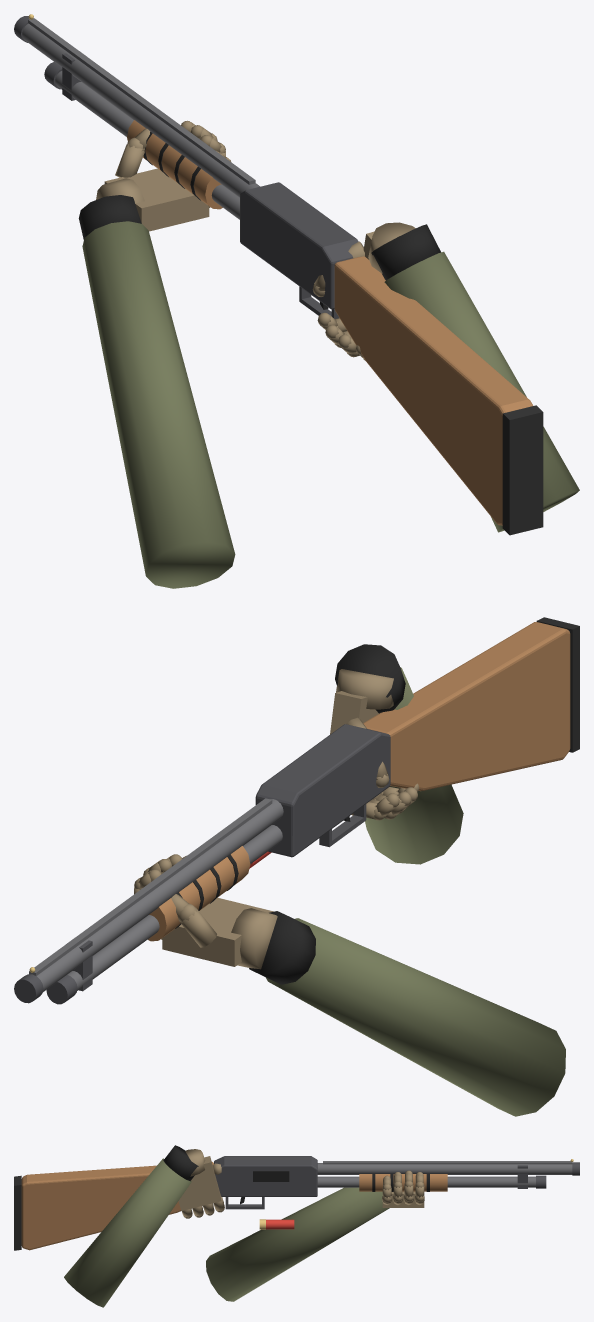
File: shotgun.glb
3 renders of one model, top to bottom at view 1: azimuth 30°, elevation 25°; view 2: azimuth 150°, elevation 25°; view 3: azimuth 270°, elevation 25°, orthographic. The views are drawn at different scales.
Visible parts, largest first — view 1: Shotgun_Body, Shotgun_HandLeft, Shotgun_HandRight, Shotgun_Pump; view 2: Shotgun_Body, Shotgun_HandLeft, Shotgun_HandRight, Shotgun_Pump; view 3: Shotgun_Body, Shotgun_HandLeft, Shotgun_HandRight, Shotgun_Pump, Shotgun_Shell.
Part boxes in pixels (x1=…): Shotgun_Body: x1=14, y1=14, x2=543, y2=535; Shotgun_HandLeft: x1=78, y1=120, x2=235, y2=588; Shotgun_HandRight: x1=312, y1=222, x2=579, y2=532; Shotgun_Pump: x1=127, y1=120, x2=222, y2=209; Shotgun_Body: x1=14, y1=617, x2=579, y2=1004; Shotgun_HandLeft: x1=134, y1=854, x2=565, y2=1116; Shotgun_HandRight: x1=330, y1=644, x2=463, y2=864; Shotgun_Pump: x1=148, y1=846, x2=250, y2=941; Shotgun_Body: x1=14, y1=1156, x2=579, y2=1250; Shotgun_HandLeft: x1=206, y1=1170, x2=424, y2=1301; Shotgun_HandRight: x1=64, y1=1145, x2=224, y2=1307; Shotgun_Pump: x1=359, y1=1174, x2=447, y2=1191; Shotgun_Shell: x1=259, y1=1219, x2=294, y2=1229.
Bounding box in the file's own units: 0.3818 × 0.4254 × 1.09.
